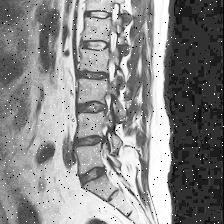disc: (79, 38, 112, 56), (83, 6, 114, 24)
hdisc: (77, 164, 111, 188), (76, 99, 112, 119), (74, 132, 109, 152), (78, 67, 112, 86)
